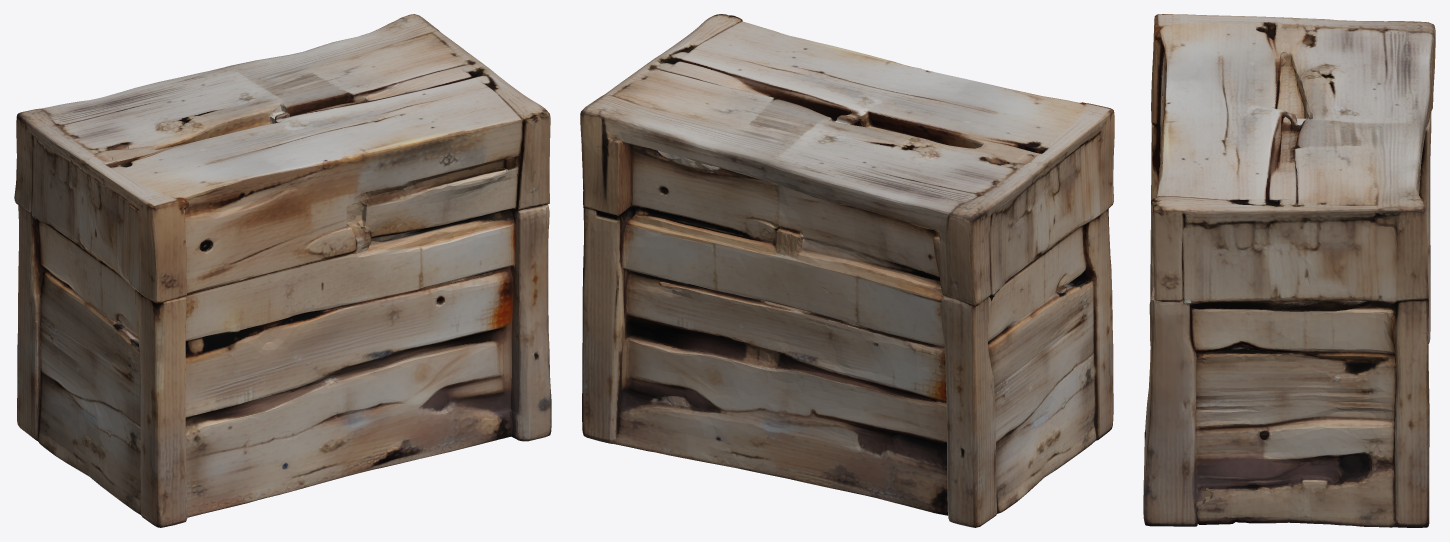
The model's file is wooden_crate_42_20251230_114031_20251230_115621.glb.
The picture shows the model from 3 angles, left to right: view 1: azimuth 30°, elevation 25°; view 2: azimuth 150°, elevation 25°; view 3: azimuth 270°, elevation 25°; orthographic projection.
Parts seen in each view (by area): view 1: world; view 2: world; view 3: world.
Part boxes in pixels (x1,y1,x2,y2): world: (14,14,551,527); world: (580,14,1114,527); world: (1143,14,1435,527).
Bounding box in the file's own units: 0.9988 × 0.772 × 0.6321.
Materials: 1 (1 with a texture image).
